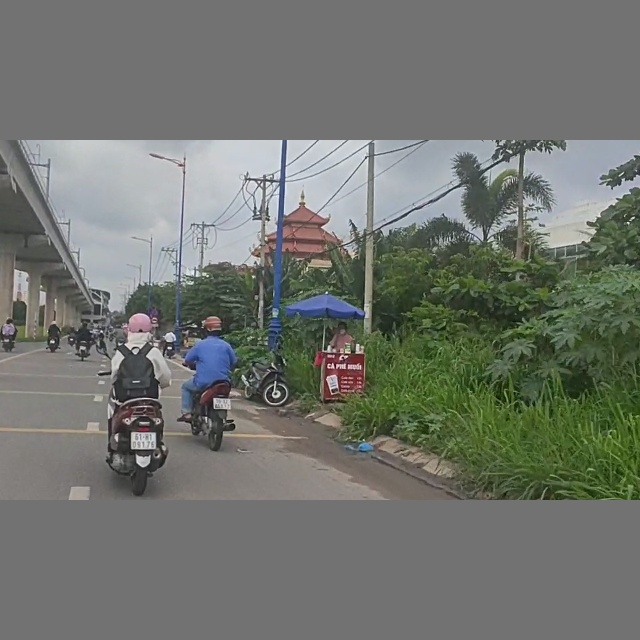B.8a: (151, 316, 158, 323)
P.130: (151, 307, 159, 315)
